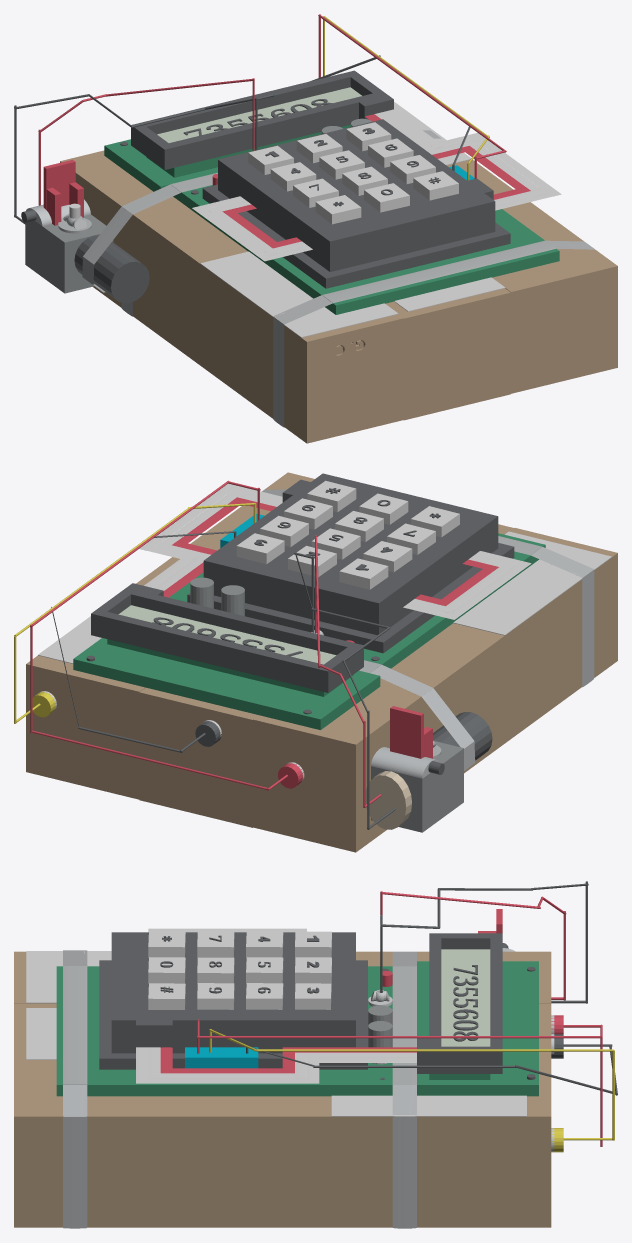
Rendered from csbomb.glb.
3 renders of one model, top to bottom at view 1: azimuth 30°, elevation 25°; view 2: azimuth 150°, elevation 25°; view 3: azimuth 270°, elevation 25°, orthographic. The views are drawn at different scales.
Parts seen in each view (by area): view 1: Mesh_Mesh_head_geo.001_lambert2SG.001; view 2: Mesh_Mesh_head_geo.001_lambert2SG.001; view 3: Mesh_Mesh_head_geo.001_lambert2SG.001.
Part boxes in pixels (x1=…): Mesh_Mesh_head_geo.001_lambert2SG.001: x1=14, y1=14, x2=617, y2=443; Mesh_Mesh_head_geo.001_lambert2SG.001: x1=14, y1=472, x2=617, y2=852; Mesh_Mesh_head_geo.001_lambert2SG.001: x1=14, y1=881, x2=617, y2=1228.
Bounding box in the file's own units: 38.01 × 21.06 × 49.46.
